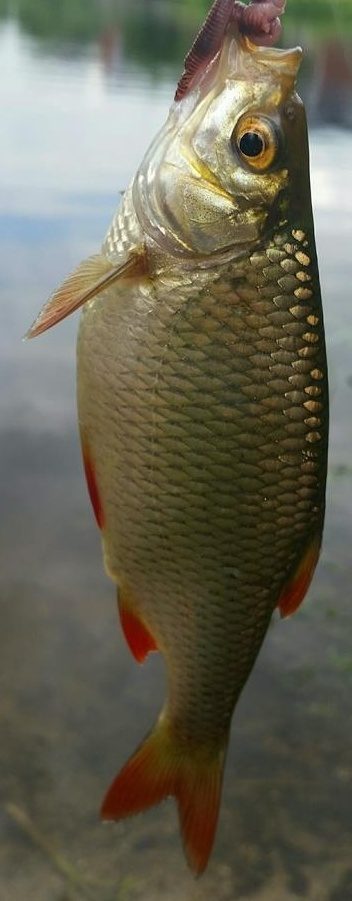Scardinius erythrophthalmus: (20, 20, 332, 881)
